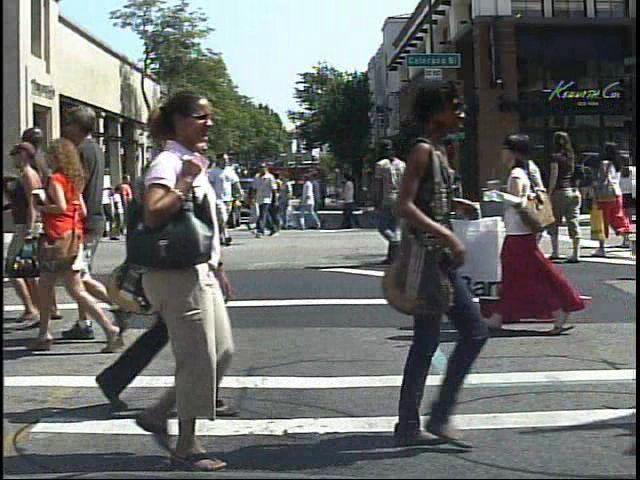person: (328, 77, 520, 460), (89, 83, 269, 476), (24, 125, 128, 352), (495, 126, 581, 348), (54, 99, 127, 349), (524, 130, 559, 345), (420, 138, 475, 270), (547, 126, 593, 263), (590, 135, 630, 261), (208, 149, 239, 250), (141, 160, 172, 245), (158, 158, 190, 240), (83, 162, 113, 248), (391, 163, 418, 235), (67, 181, 93, 243), (620, 146, 639, 209), (81, 183, 101, 226), (392, 133, 393, 275)
